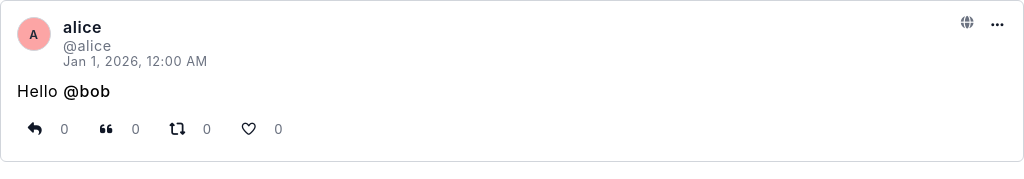
Test case: ActivityCard › likes the activity once and bumps the counter
Click the button named "Like" at (249, 129), box x1=231 y1=113 x2=266 y2=145
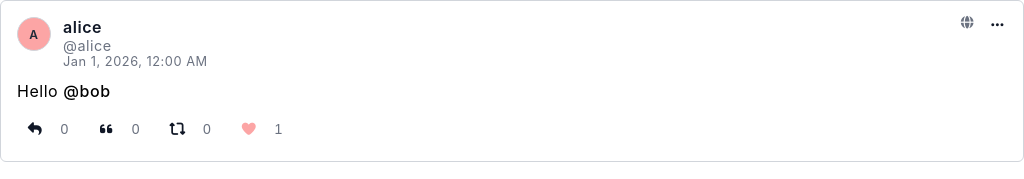
Result: the button with class "activity-card__count" reads "1" at x1=266 y1=117 x2=290 y2=141
